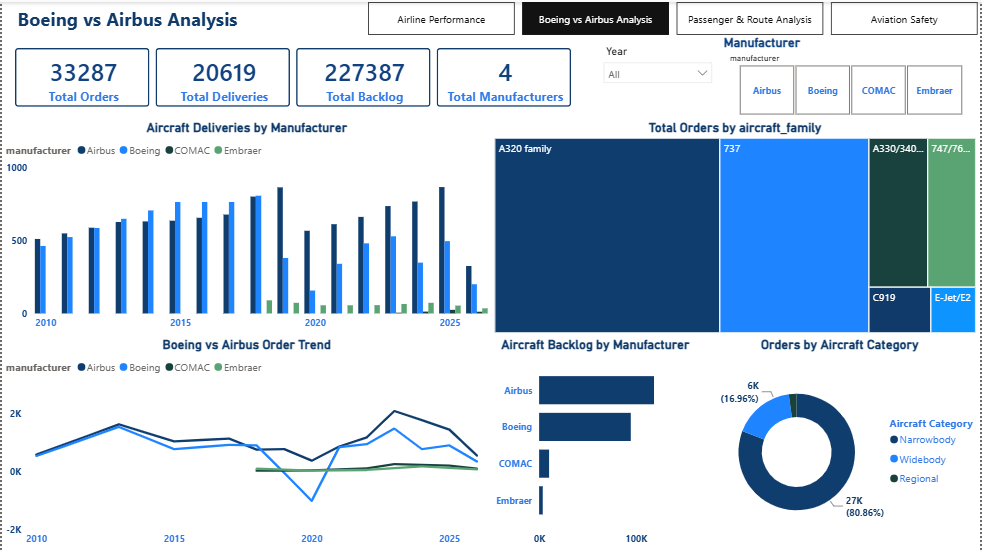

This screenshot's page, from the dashboard's own definition file:
{"tool":"powerbi","page":{"name":"Boeing vs Airbus Analysis","canvas":[1280,720],"ordinal":2},"visuals":[{"type":"textbox","box":[10.5,0,307.6,43.5],"z":0,"group":"g1"},{"type":"pageNavigator","box":[478.7,0,801.3,43.5],"z":1000,"group":"g1"},{"type":"cardVisual","fields":{"Data":["Measure Table.Total Orders","Measure Table.Total Deliveries","Measure Table.Total Backlog","Measure Table.Total Manufacturers"]},"box":[0,43.5,763.8,111],"z":2000,"group":"g1"},{"type":"clusteredColumnChart","title":"Aircraft Deliveries by Manufacturer","fields":{"Y":["Measure Table.Total Deliveries"],"Category":["Dim Date.Year"],"Series":["Fleet Orders.manufacturer"]},"box":[0,154.6,640.8,283.6],"z":3000,"group":"g1"},{"type":"clusteredBarChart","title":"Aircraft Backlog by Manufacturer","fields":{"Y":["Measure Table.Total Backlog"],"Category":["Fleet Orders.manufacturer"]},"box":[640.8,438.2,273.1,282.1],"z":4000,"group":"g1"},{"type":"treemap","fields":{"Group":["Fleet Orders.aircraft_family"],"Values":["Measure Table.Total Orders"]},"box":[640.8,154.6,639.2,283.6],"z":5000,"group":"g1"},{"type":"lineChart","title":"Boeing vs Airbus Order Trend","fields":{"Y":["Measure Table.Total Orders"],"Category":["Date.Year"],"Series":["Fleet Orders.manufacturer"]},"box":[0,438.2,640.8,282.1],"z":6000,"group":"g1"},{"type":"donutChart","title":"Orders by Aircraft Category","fields":{"Category":["Fleet Orders.Aircraft Category"],"Y":["Measure Table.Total Orders"]},"box":[913.9,438.2,366.1,282.1],"z":7000,"group":"g1"},{"type":"slicer","title":"Manufacturer","fields":{"Values":["Fleet Orders.manufacturer"]},"box":[939.4,43.5,340.6,111],"z":8000,"group":"g1"},{"type":"slicer","fields":{"Values":["Date.Year"]},"box":[777.3,51,162.1,94.5],"z":9000,"group":"g1"},{"type":"group","id":"g1","title":"Group 1","box":[0,0,1280,720.2],"z":9001}]}

Visuals, with their boxes in screenshot pixels (x1, y1, x2, y2), scaled from the page's 1280x720 canvas onto the 982x552 screenshot:
textbox: rect(8, 0, 244, 33)
pageNavigator: rect(367, 0, 981, 33)
cardVisual - Measure Table.Total Orders x Measure Table.Total Deliveries: rect(0, 33, 586, 118)
"Aircraft Deliveries by Manufacturer" clusteredColumnChart: rect(0, 119, 492, 336)
"Aircraft Backlog by Manufacturer" clusteredBarChart: rect(492, 336, 701, 551)
treemap - Fleet Orders.aircraft_family x Measure Table.Total Orders: rect(492, 119, 981, 336)
"Boeing vs Airbus Order Trend" lineChart: rect(0, 336, 492, 551)
"Orders by Aircraft Category" donutChart: rect(701, 336, 981, 551)
"Manufacturer" slicer: rect(721, 33, 981, 118)
slicer - Date.Year: rect(596, 39, 721, 112)
"Group 1" group: rect(0, 0, 981, 551)
